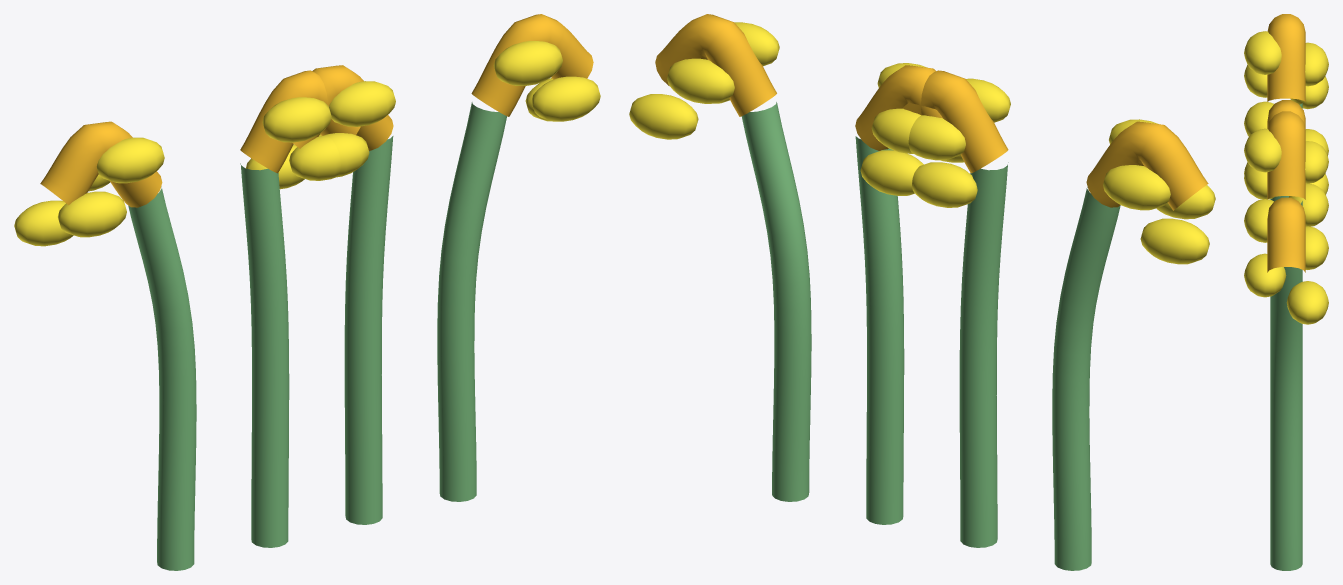
The model's file is padi.glb.
The picture shows the model from 3 angles, left to right: view 1: azimuth 30°, elevation 25°; view 2: azimuth 150°, elevation 25°; view 3: azimuth 270°, elevation 25°; orthographic projection. The views are drawn at different scales.
Size of the model in its own units: 1.35 by 1.02 by 0.199.
